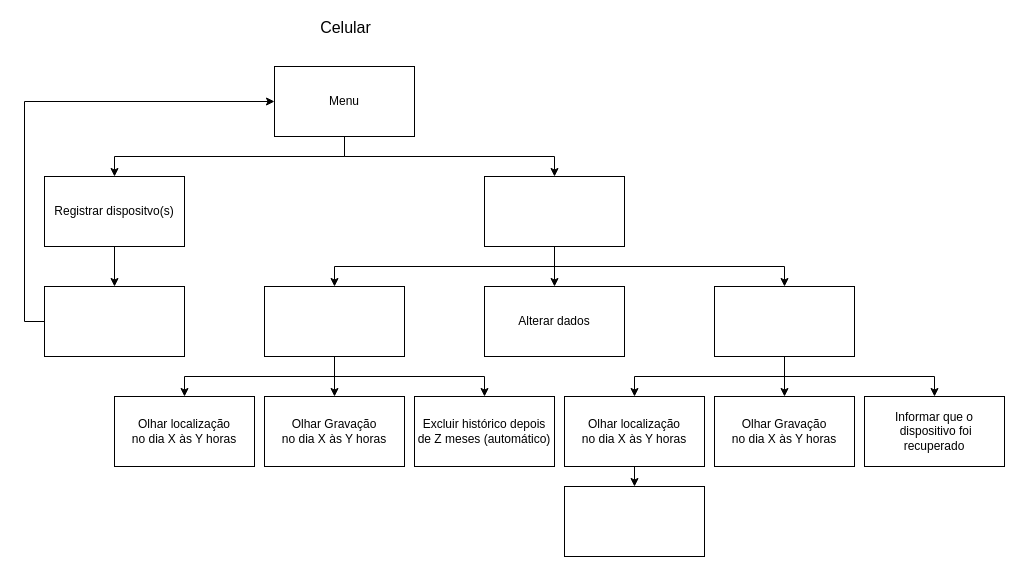
Some shapes in this 1022 by 574 pixel diagram are drawn without their labels. Here are the shapes that lost their labels. From the top down, the box of each, then its label:
(484, 176, 624, 246): Mostrar dispositivos
(44, 286, 184, 356): Inserir dados
(264, 286, 404, 356): Consultar Histórico
(714, 286, 854, 356): Verificar roubo recente
(564, 486, 704, 556): Mostra no mapa onde o dispositivo está e onde o usuário está
